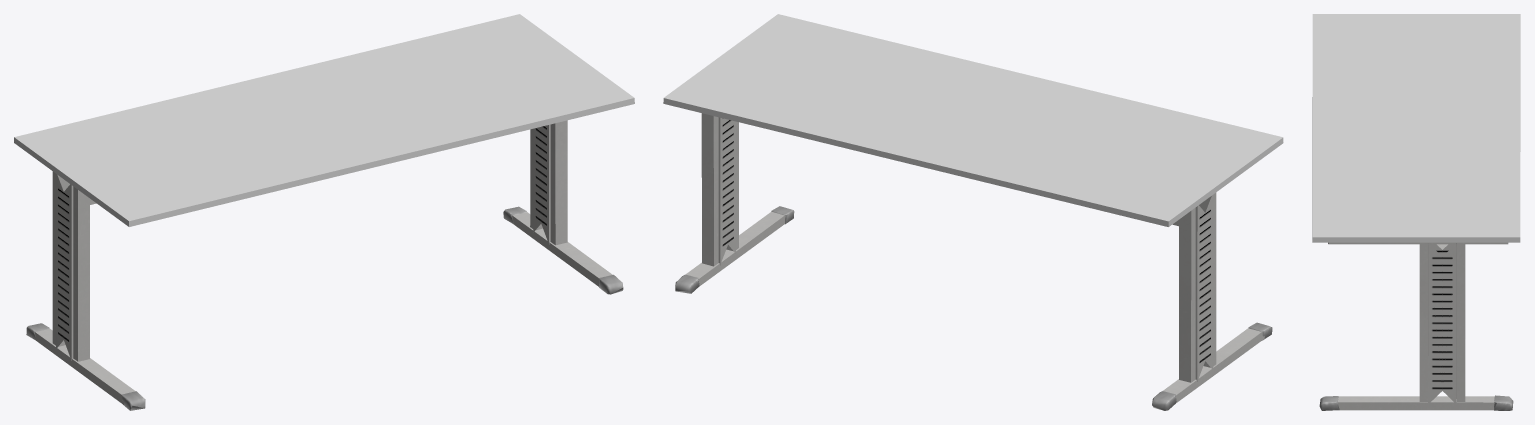
Rendered from table.obj.
3 views of the same model, side by side, from view 1: azimuth 30°, elevation 25°; view 2: azimuth 150°, elevation 25°; view 3: azimuth 270°, elevation 25° (orthographic). The views are drawn at different scales.
Visible parts, largest first — view 1: SM_Table; view 2: SM_Table; view 3: SM_Table.
Boxes of the visible parts, x1=… form: SM_Table: x1=14, y1=14, x2=634, y2=410; SM_Table: x1=663, y1=14, x2=1283, y2=410; SM_Table: x1=1312, y1=14, x2=1520, y2=410.
Size of the model in its own units: 1.8 by 0.6637 by 0.7091.
